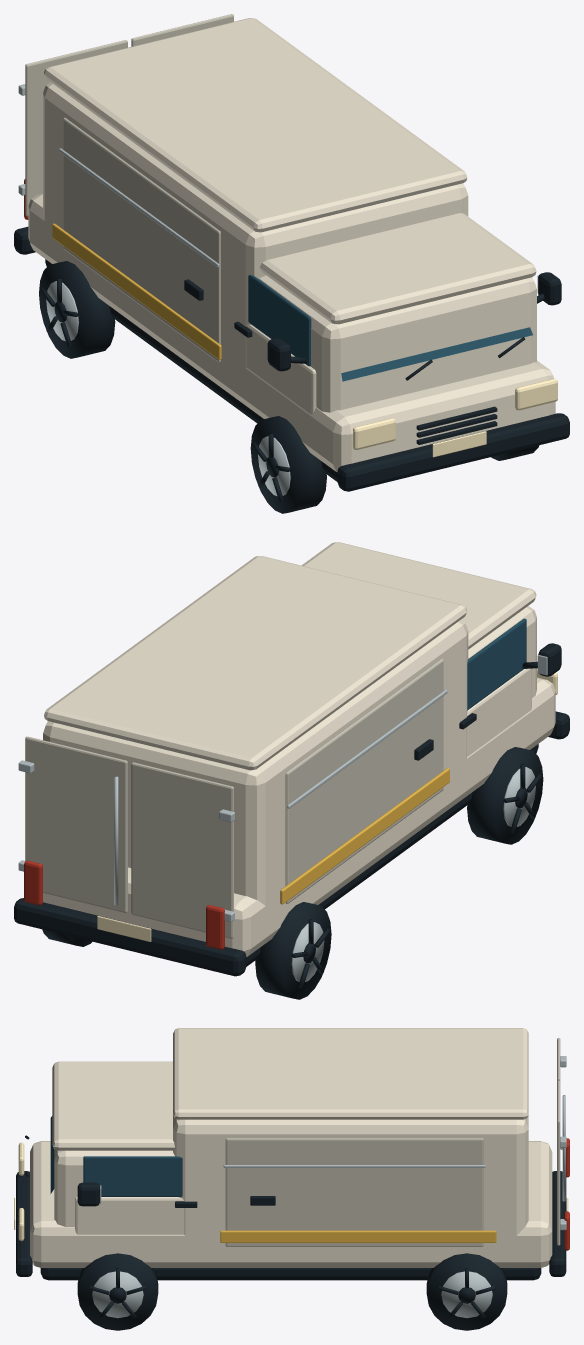
File: van.glb
3 renders of one model, top to bottom at view 1: azimuth 30°, elevation 25°; view 2: azimuth 150°, elevation 25°; view 3: azimuth 270°, elevation 25°, orthographic. The views are drawn at different scales.
Visible parts, largest first — view 1: Vehicle_van_Vehicle_Paint, Vehicle_van_Cargo_Panel, Vehicle_van_Tyres_And_Trim, VehicleWheelFrontLeft_Tyres_And_Trim, VehicleWheelRearLeft_Tyres_And_Trim, DoorLeft_Blue_Glass, Vehicle_van_Delivery_Mark, Vehicle_van_Headlights, DoorLeft_Vehicle_Paint, Vehicle_van_Blue_Glass, Vehicle_van_Brushed_Aluminium, VehicleWheelFrontLeft_Brushed_Aluminium (+1 smaller); view 2: Vehicle_van_Vehicle_Paint, Vehicle_van_Cargo_Panel, Vehicle_van_Tyres_And_Trim, VehicleWheelRearLeft_Tyres_And_Trim, VehicleWheelFrontLeft_Tyres_And_Trim, DoorLeft_Blue_Glass, DoorLeft_Vehicle_Paint, Vehicle_van_Delivery_Mark, Vehicle_van_Brushed_Aluminium, Vehicle_van_Rear_Lights, VehicleWheelFrontLeft_Brushed_Aluminium, VehicleWheelRearLeft_Brushed_Aluminium (+1 smaller); view 3: Vehicle_van_Vehicle_Paint, Vehicle_van_Cargo_Panel, Vehicle_van_Tyres_And_Trim, DoorRight_Vehicle_Paint, DoorRight_Blue_Glass, VehicleWheelFrontRight_Tyres_And_Trim, VehicleWheelRearRight_Tyres_And_Trim, Vehicle_van_Delivery_Mark, Vehicle_van_Brushed_Aluminium, VehicleWheelFrontRight_Brushed_Aluminium, VehicleWheelRearRight_Brushed_Aluminium, Vehicle_van_Headlights.
Part boxes in pixels (x1,y1,x2,y2): Vehicle_van_Vehicle_Paint: (28,18,555,472); Vehicle_van_Cargo_Panel: (25,14,233,362); Vehicle_van_Tyres_And_Trim: (14,226,569,491); VehicleWheelFrontLeft_Tyres_And_Trim: (250,416,326,513); VehicleWheelRearLeft_Tyres_And_Trim: (39,261,115,358); DoorLeft_Blue_Glass: (248,275,311,366); Vehicle_van_Delivery_Mark: (52,223,221,359); Vehicle_van_Headlights: (353,379,557,457); DoorLeft_Vehicle_Paint: (246,324,316,414); Vehicle_van_Blue_Glass: (341,327,532,381); Vehicle_van_Brushed_Aluminium: (18,84,538,359); VehicleWheelFrontLeft_Brushed_Aluminium: (258,436,290,496); Vehicle_van_Vehicle_Paint: (43,542,555,956); Vehicle_van_Cargo_Panel: (25,659,443,938); Vehicle_van_Tyres_And_Trim: (14,643,569,976); VehicleWheelRearLeft_Tyres_And_Trim: (255,902,331,999); VehicleWheelFrontLeft_Tyres_And_Trim: (467,747,543,844); DoorLeft_Blue_Glass: (467,618,526,710); DoorLeft_Vehicle_Paint: (467,668,531,756); Vehicle_van_Delivery_Mark: (280,768,449,904); Vehicle_van_Brushed_Aluminium: (18,655,547,921); Vehicle_van_Rear_Lights: (24,860,224,949); VehicleWheelFrontLeft_Brushed_Aluminium: (503,767,535,826); VehicleWheelRearLeft_Brushed_Aluminium: (291,922,324,981); Vehicle_van_Vehicle_Paint: (30,1028,552,1267); Vehicle_van_Cargo_Panel: (225,1038,560,1246); Vehicle_van_Tyres_And_Trim: (16,1135,566,1280); DoorRight_Vehicle_Paint: (75,1197,184,1234); DoorRight_Blue_Glass: (83,1156,182,1196); VehicleWheelFrontRight_Tyres_And_Trim: (77,1253,158,1330); VehicleWheelRearRight_Tyres_And_Trim: (426,1253,507,1330); Vehicle_van_Delivery_Mark: (220,1230,496,1242); Vehicle_van_Brushed_Aluminium: (100,1056,566,1230); VehicleWheelFrontRight_Brushed_Aluminium: (92,1271,143,1318); VehicleWheelRearRight_Brushed_Aluminium: (441,1271,492,1318); Vehicle_van_Headlights: (14,1142,568,1241).
Size of the model in its own units: 2.89 by 2.51 by 5.94.
